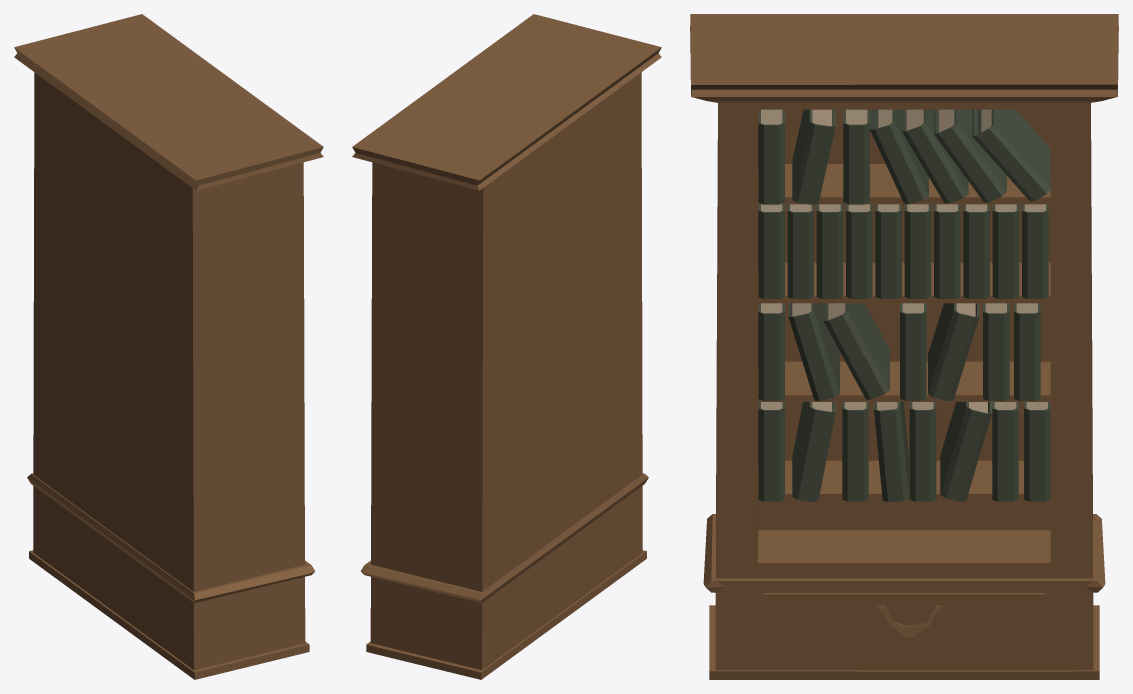
File: bookshelf.fbx
3 views of the same model, side by side, from view 1: azimuth 30°, elevation 25°; view 2: azimuth 150°, elevation 25°; view 3: azimuth 270°, elevation 25° (orthographic). The views are drawn at different scales.
Parts seen in each view (by area): view 1: Cube; view 2: Cube; view 3: Cube, Book.003, Book.001, Book.004, Book.002.
Part boxes in pixels (<box>): Cube: <box>14,14,323,679</box>; Cube: <box>352,14,661,679</box>; Cube: <box>690,14,1118,679</box>; Book.003: <box>758,204,1048,298</box>; Book.001: <box>758,400,1050,502</box>; Book.004: <box>758,109,1051,204</box>; Book.002: <box>758,303,1040,400</box>.
Size of the model in its own units: 293 by 1049 by 681.
